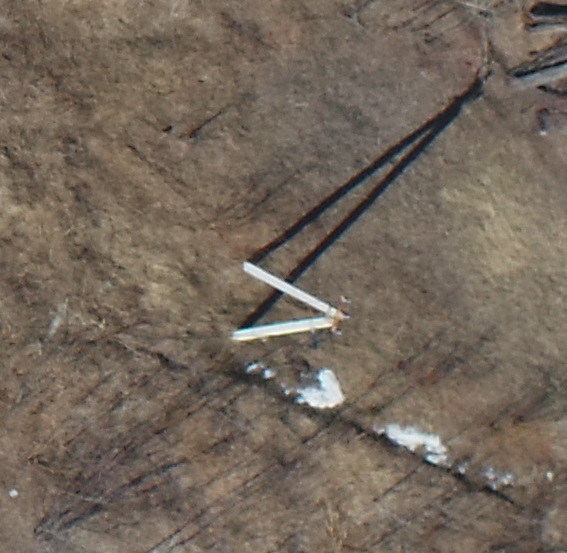opora: (229, 237, 361, 340)
